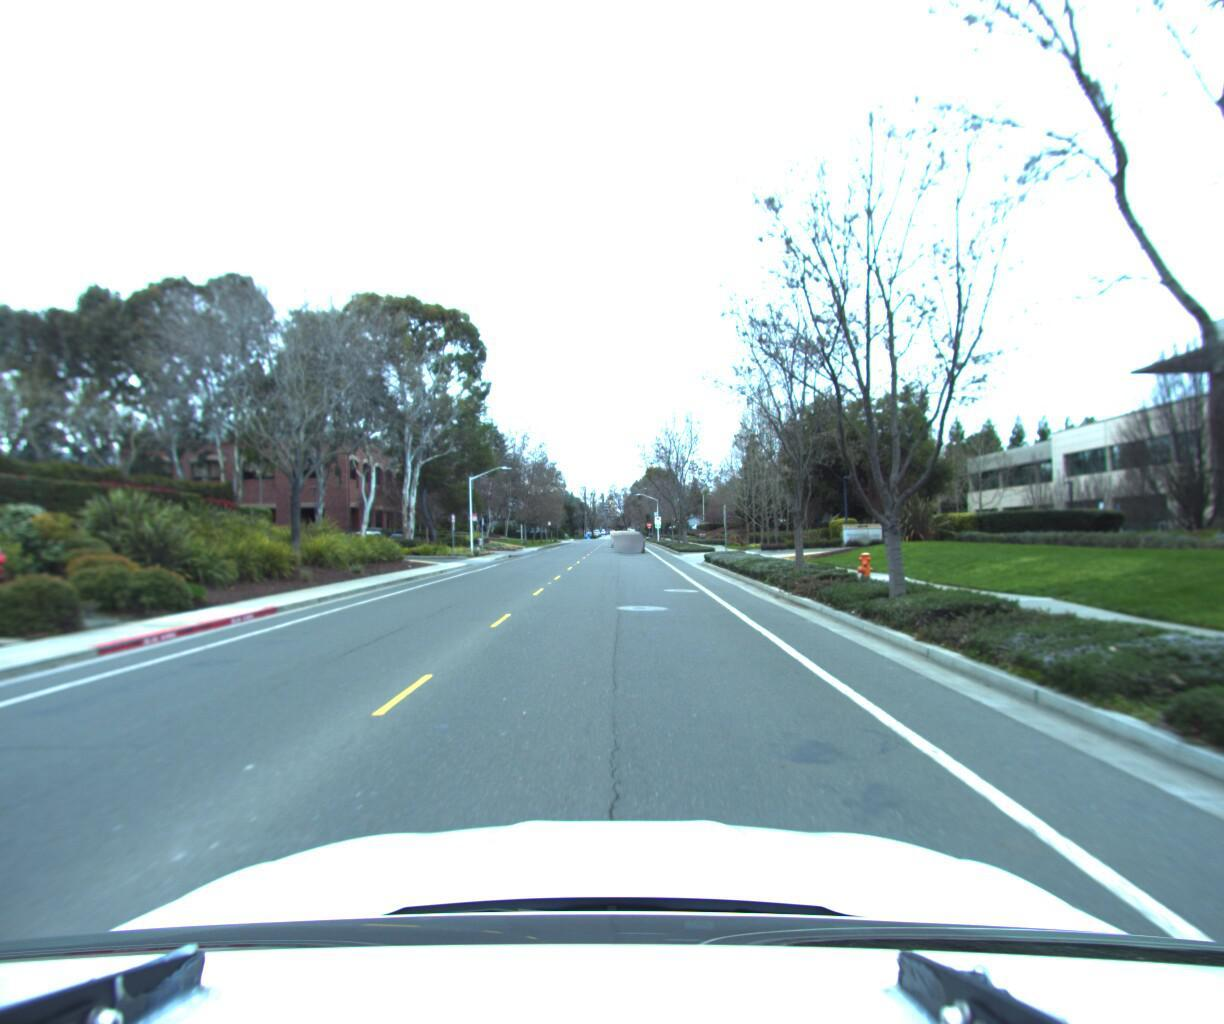car: (616, 529, 644, 549), (607, 527, 630, 543)
